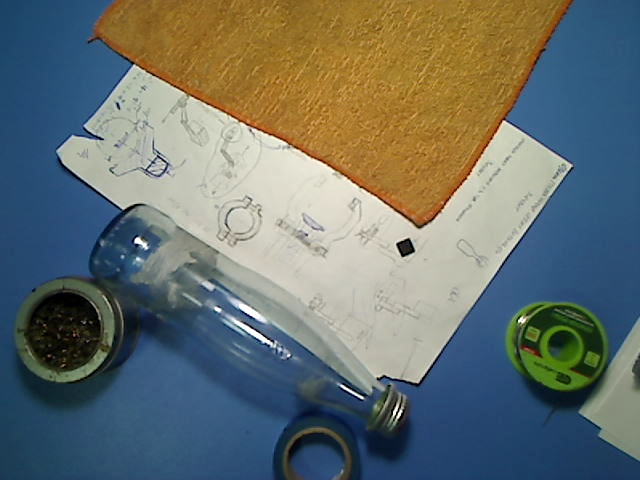bottle: (87, 202, 414, 443)
